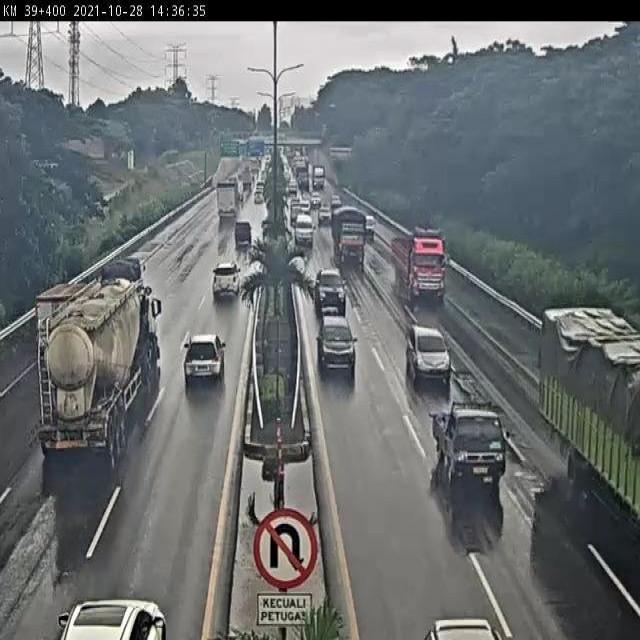truck-m-: (539, 310, 640, 526), (390, 233, 445, 299), (330, 204, 365, 261)
truck-xl-: (38, 280, 160, 449)
